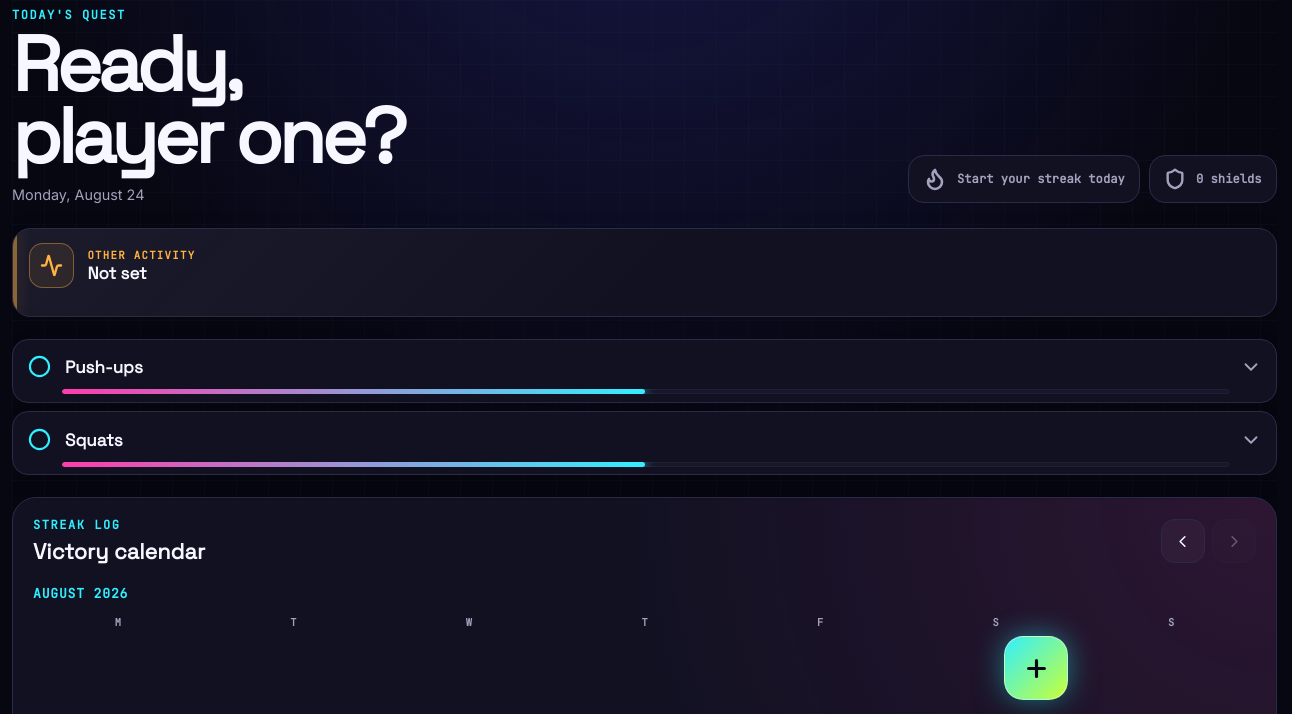
Test case: today’s arcade training dashboard › keeps a newly cleared quest in place until the athlete collapses it
The width and height of the screenshot is (1292, 714).
Step 1. Click the button with test id "exercise-toggle-push-ups" → coordinates (104, 367), box x1=12 y1=338 x2=1277 y2=402
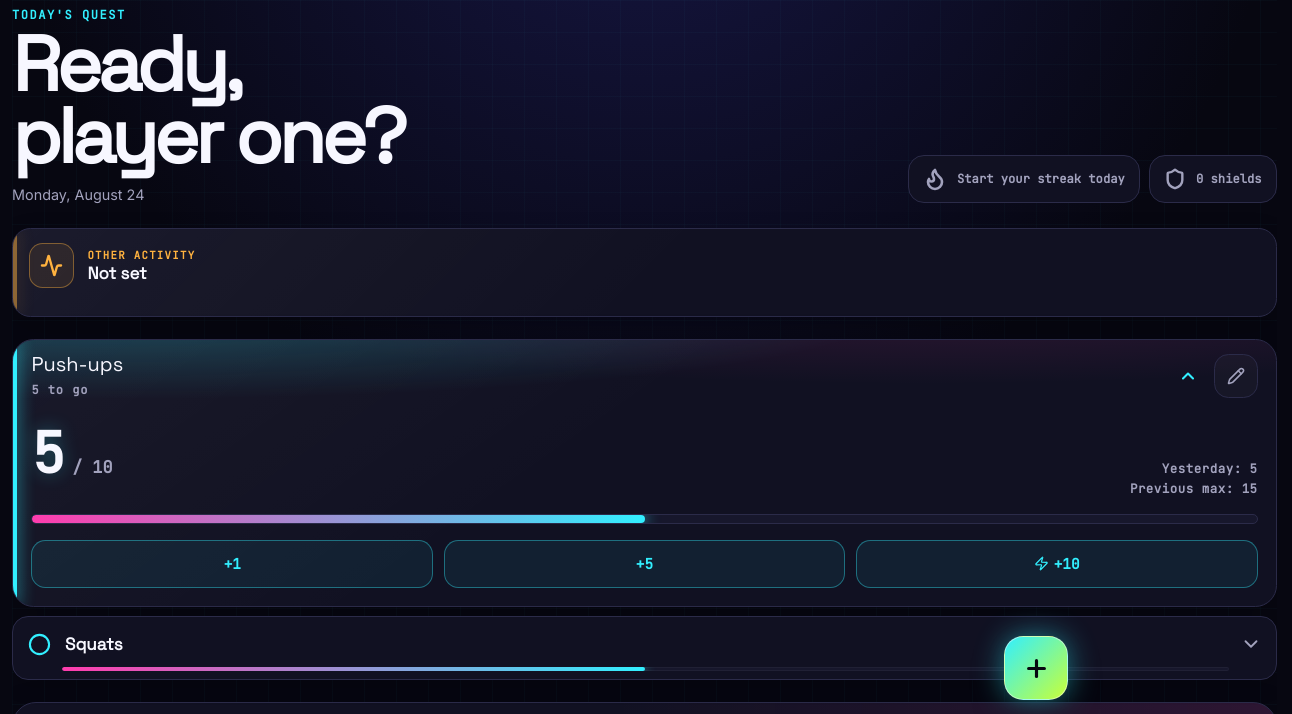
Step 2. Click the button named "Add 5 reps to Push-ups" → coordinates (644, 564), box x1=444 y1=540 x2=845 y2=588
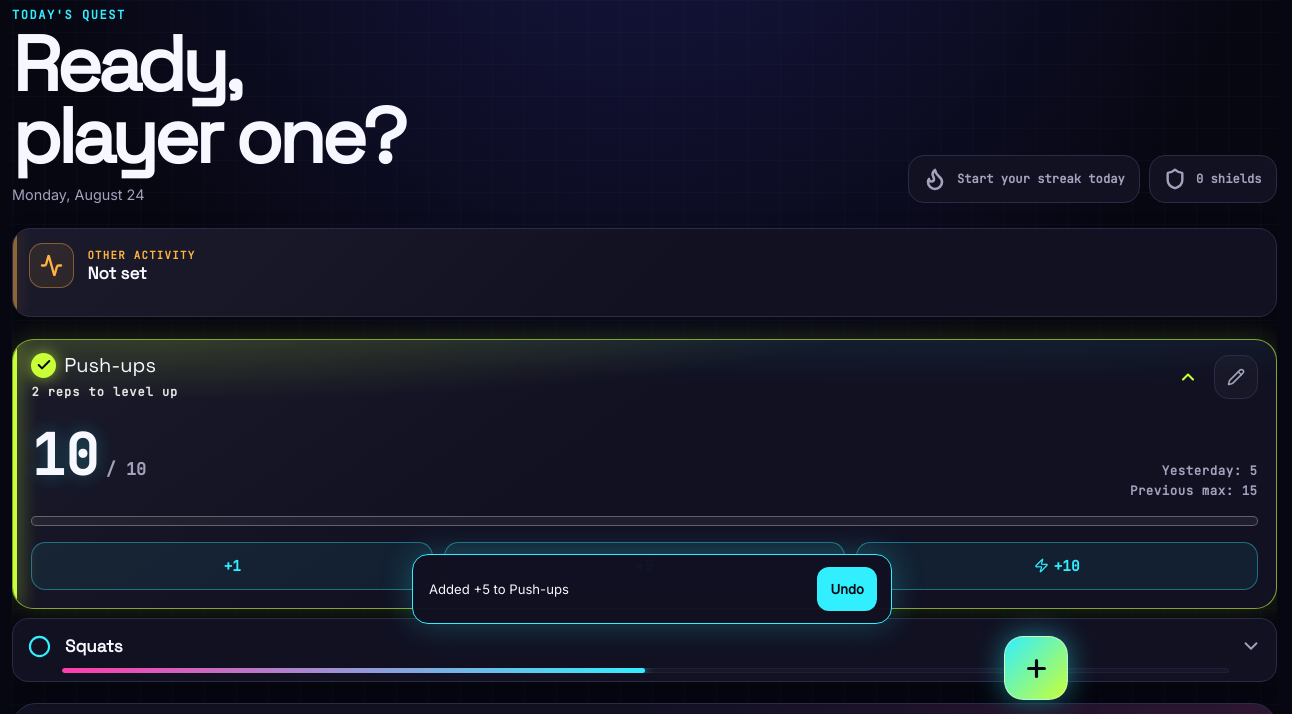
Result: the element with test id "exercise-card-push-ups" is shown at x1=12 y1=338 x2=1277 y2=609
Step 3. Click the button with test id "exercise-collapse-push-ups" → coordinates (110, 365), box x1=13 y1=340 x2=1276 y2=414
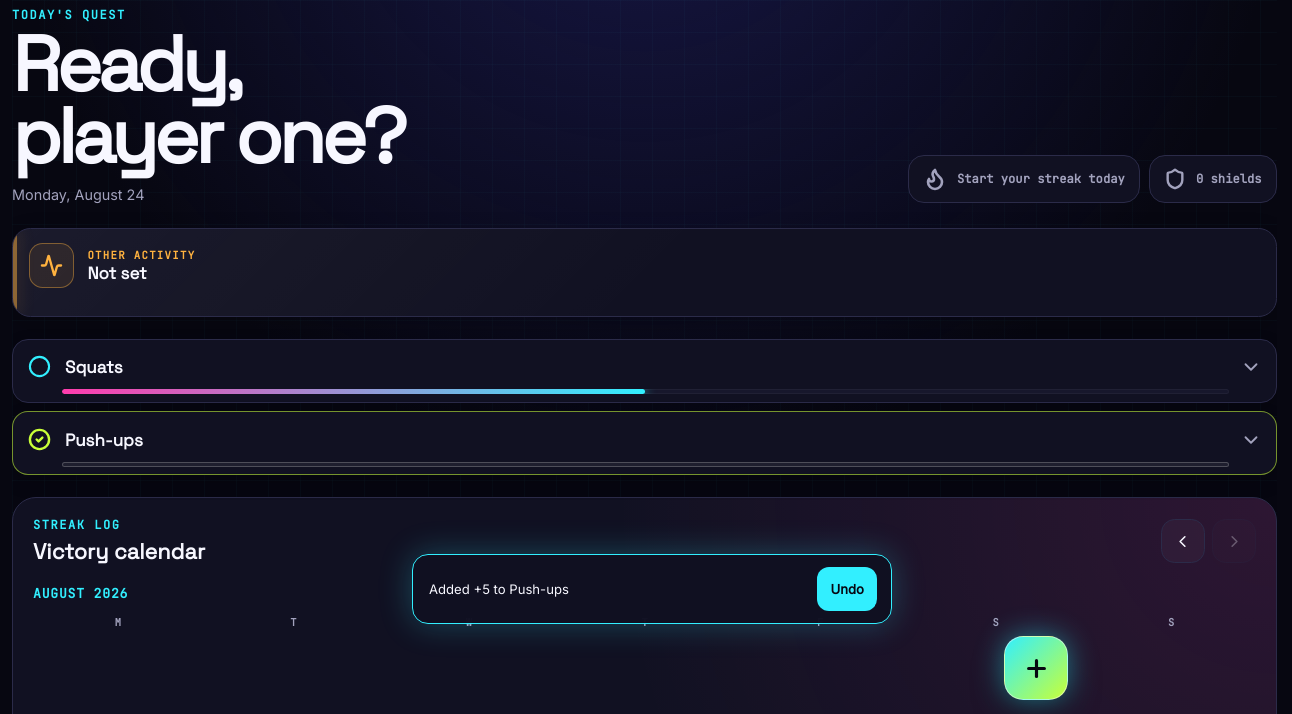
Result: no elements with class "exercise-card" are shown
